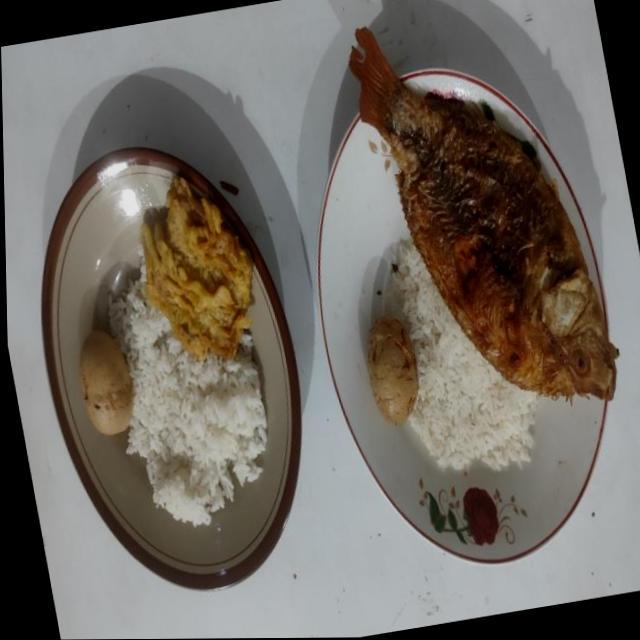ikan_mujair: (350, 28, 617, 400)
nasi_putih: (110, 262, 268, 526), (375, 238, 537, 471)
